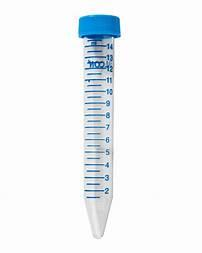Test tube: (76, 15, 120, 242)
